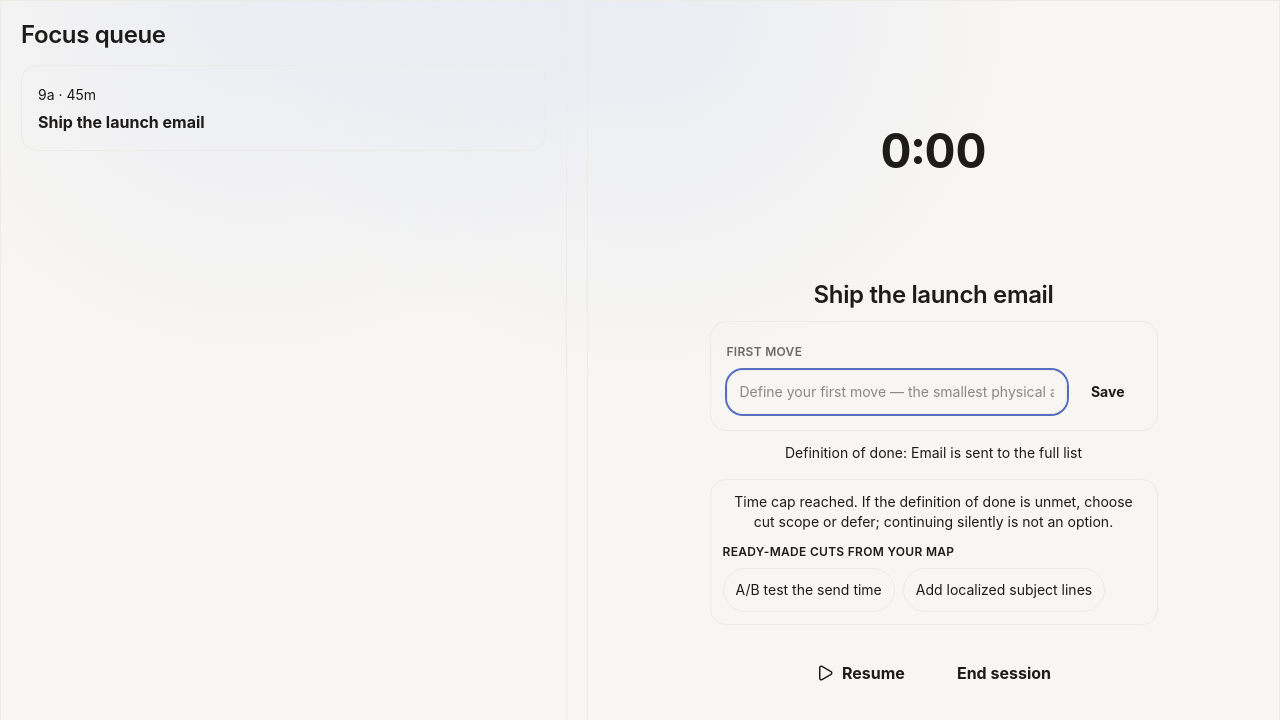
Test: ExecuteView cut-scope cap moment (FR-031 slice 7) › closes the sheet after the session write settles with split result defer_unconfirmed
Click the button with test id "cockpit-end-session": click(1004, 673) [937,649,1071,697]
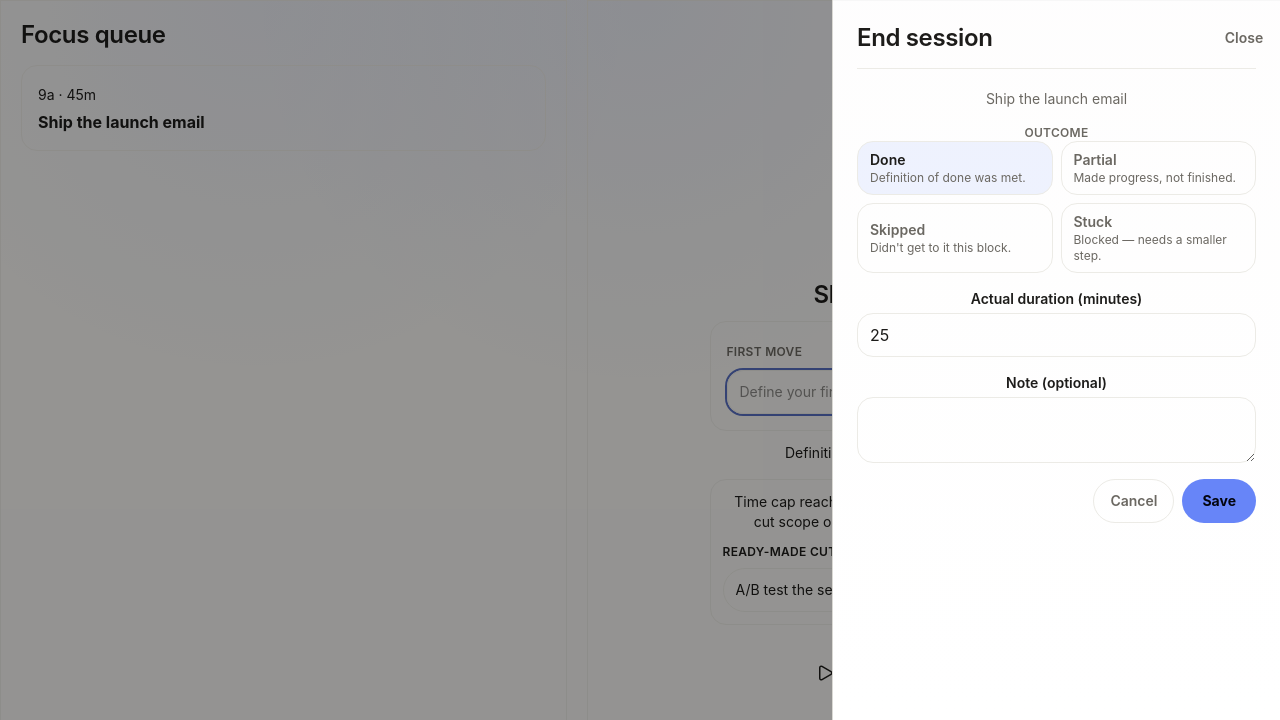
Click the button with test id "end-session-save": click(1219, 501) [1182,479,1256,523]
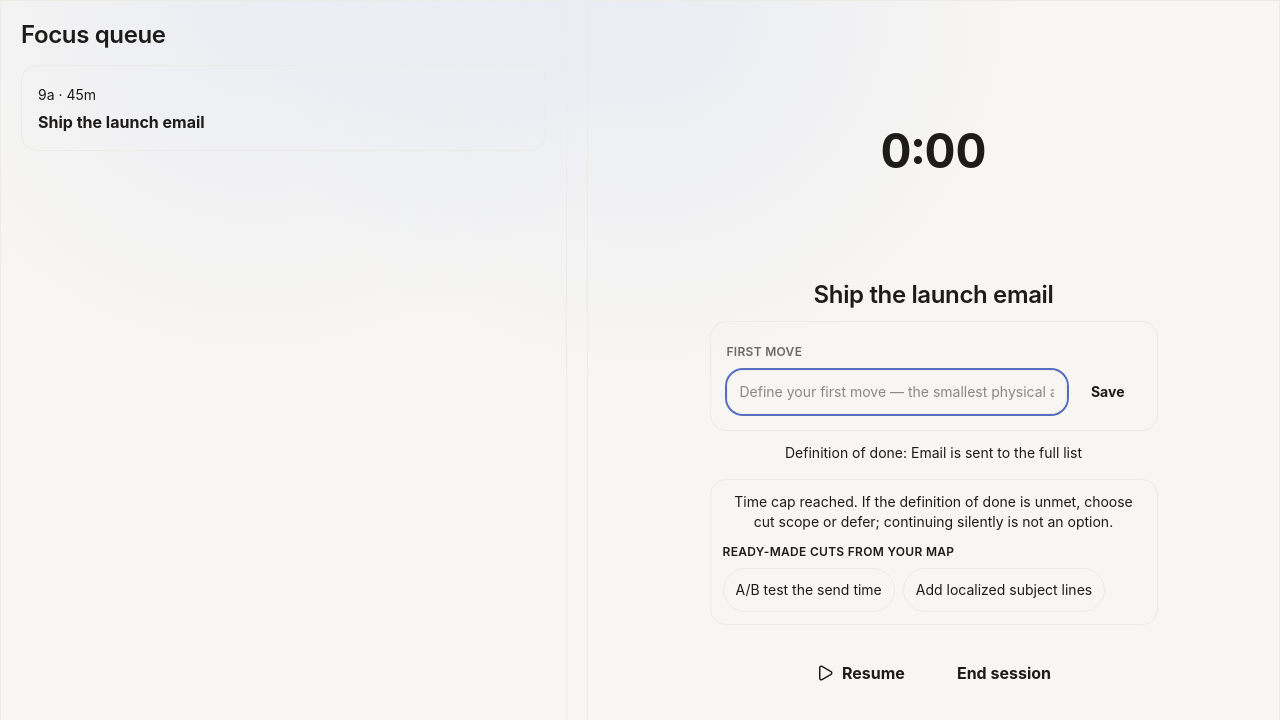
Check: the heading "Focus queue" is shown, box [21,20,166,49]
Check: the element with test id "end-session-sheet" is gone
